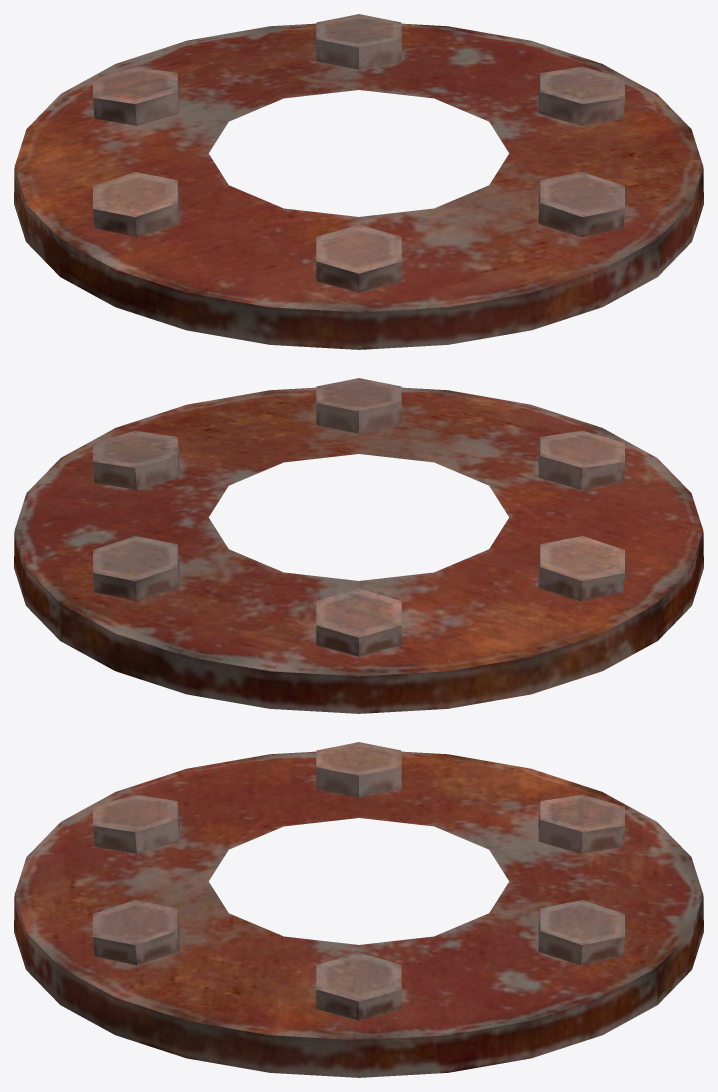
File: stylized_pipe_09.glb
The picture shows the model from 3 angles, top to bottom: view 1: azimuth 30°, elevation 25°; view 2: azimuth 150°, elevation 25°; view 3: azimuth 270°, elevation 25°; orthographic projection.
Parts seen in each view (by area): view 1: stylized_pipe_09; view 2: stylized_pipe_09; view 3: stylized_pipe_09.
Part boxes in pixels (box(x1,y1,x2,y2)): stylized_pipe_09: box(14, 14, 703, 349); stylized_pipe_09: box(14, 378, 703, 713); stylized_pipe_09: box(14, 742, 703, 1077).
Size of what is drawn, in the model's own units: 0.191 by 0.0208 by 0.191.
Materials: 1 (1 with a texture image).
